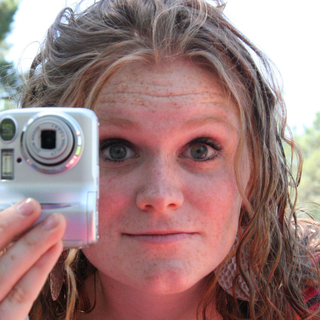eye: (178, 136, 223, 164), (101, 136, 143, 164)
